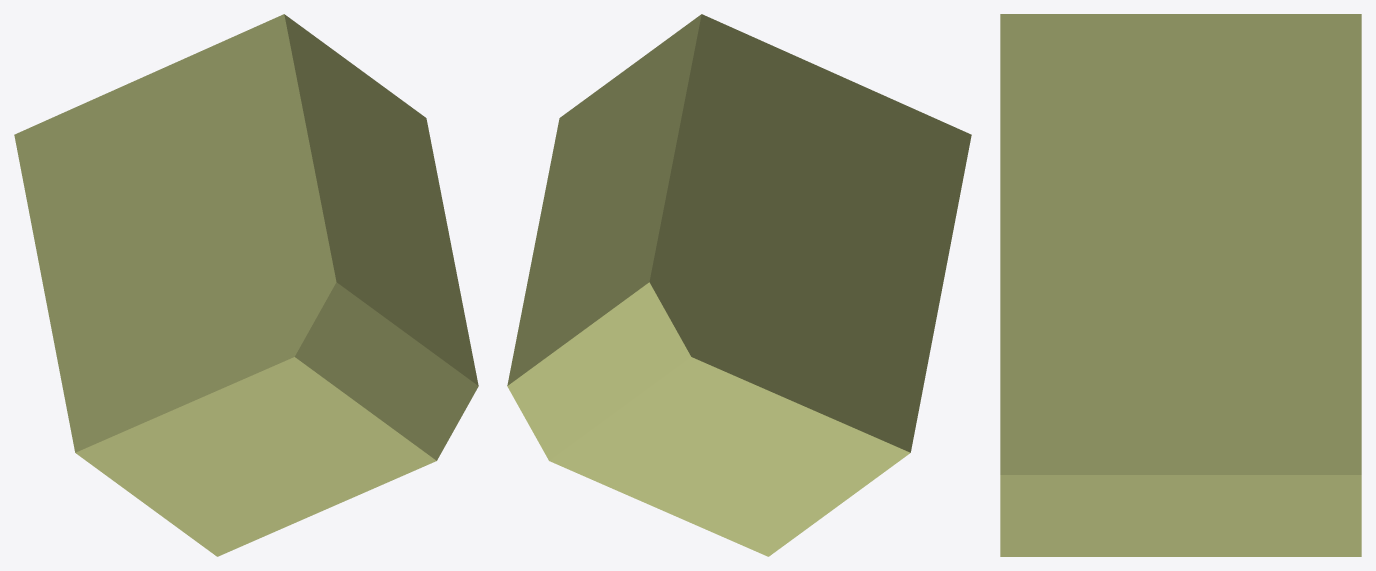
The picture shows the model from 3 angles, left to right: view 1: azimuth 30°, elevation 25°; view 2: azimuth 150°, elevation 25°; view 3: azimuth 270°, elevation 25°; orthographic projection. The views are drawn at different scales.
Visible parts, largest first — view 1: 0_1_0_2_0_3_1_1_1_2; view 2: 0_1_0_2_0_3_1_1_1_2; view 3: 0_1_0_2_0_3_1_1_1_2.
Boxes of the visible parts, <box> form: 0_1_0_2_0_3_1_1_1_2: <box>14,14,478,556</box>; 0_1_0_2_0_3_1_1_1_2: <box>507,14,971,556</box>; 0_1_0_2_0_3_1_1_1_2: <box>1000,14,1361,556</box>.
Size of the model in its own units: 11.78 by 13.54 by 9.
